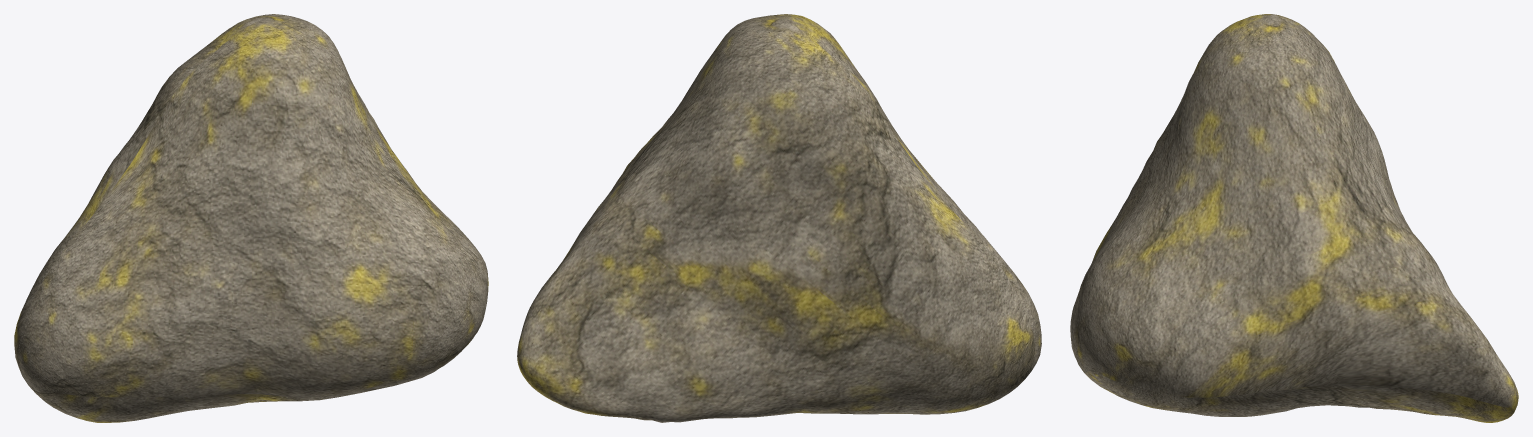
File: SulfurOreNodeV1.fbx
The picture shows the model from 3 angles, left to right: view 1: azimuth 30°, elevation 25°; view 2: azimuth 150°, elevation 25°; view 3: azimuth 270°, elevation 25°; orthographic projection. The views are drawn at different scales.
Visible parts, largest first — view 1: rock; view 2: rock; view 3: rock.
Boxes of the visible parts, box(x1,y1,x2,y2) form: rock: box(14, 14, 488, 422); rock: box(517, 14, 1041, 422); rock: box(1070, 14, 1518, 422).
Size of the model in its own units: 75.53 by 62.8 by 68.65.
